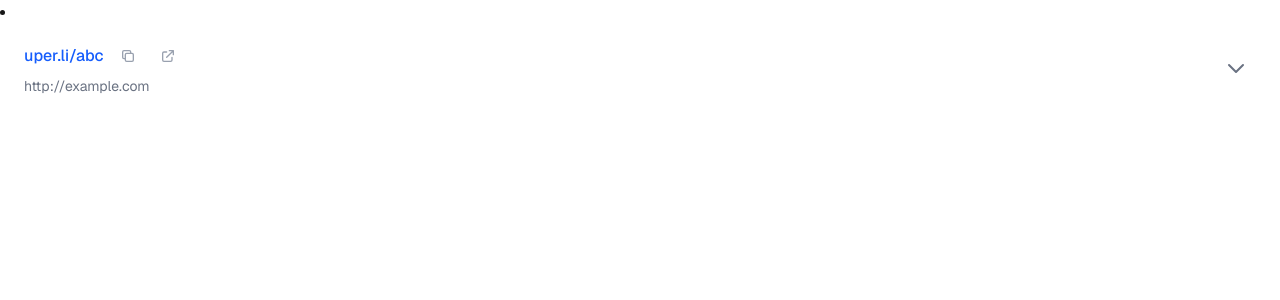
LinkItem › toggles expansion on click of the row container
# Click row
What coordinates should you click on to do the following:
click the button "uper.li/abc http://example.com"
I would click on:
 (64, 56)
Its box is top-left (0, 24), bottom-right (1279, 112).
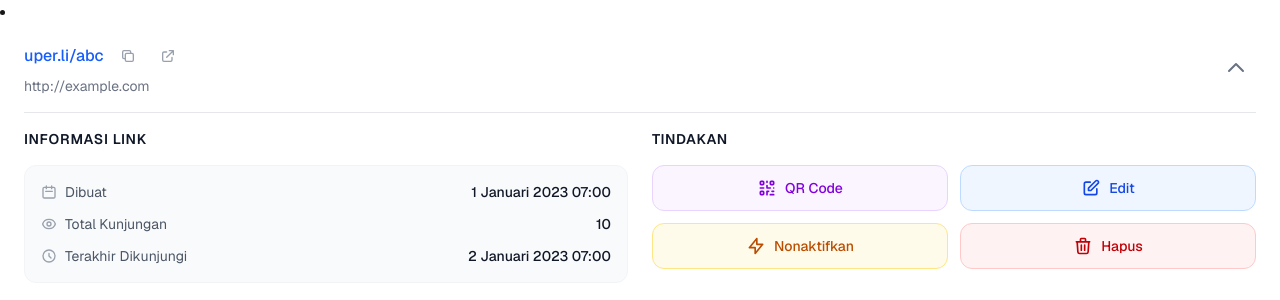
expect the button named "Collapse details" is shown: met, box top-left (1216, 48), bottom-right (1256, 88)
# Click row again to collapse
What coordinates should you click on to do the following:
click the button "uper.li/abc http://example.com"
I would click on:
 (64, 56)
Its box is top-left (0, 24), bottom-right (1279, 112).
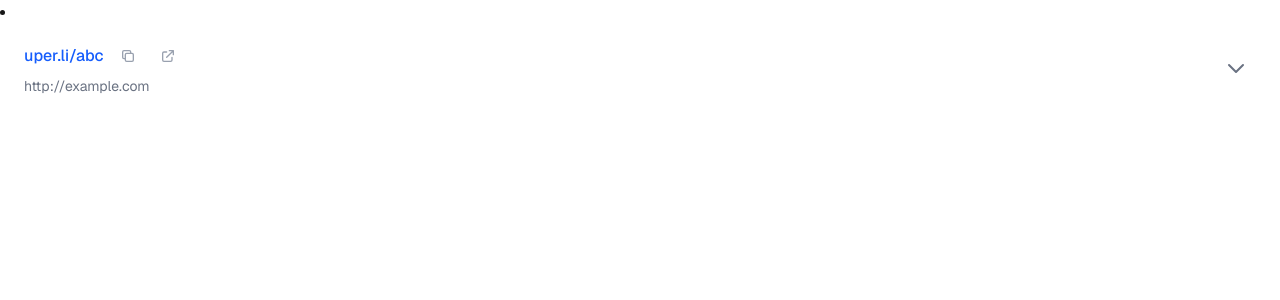
expect the button named "Expand details" is shown: met, box top-left (1216, 48), bottom-right (1256, 88)
